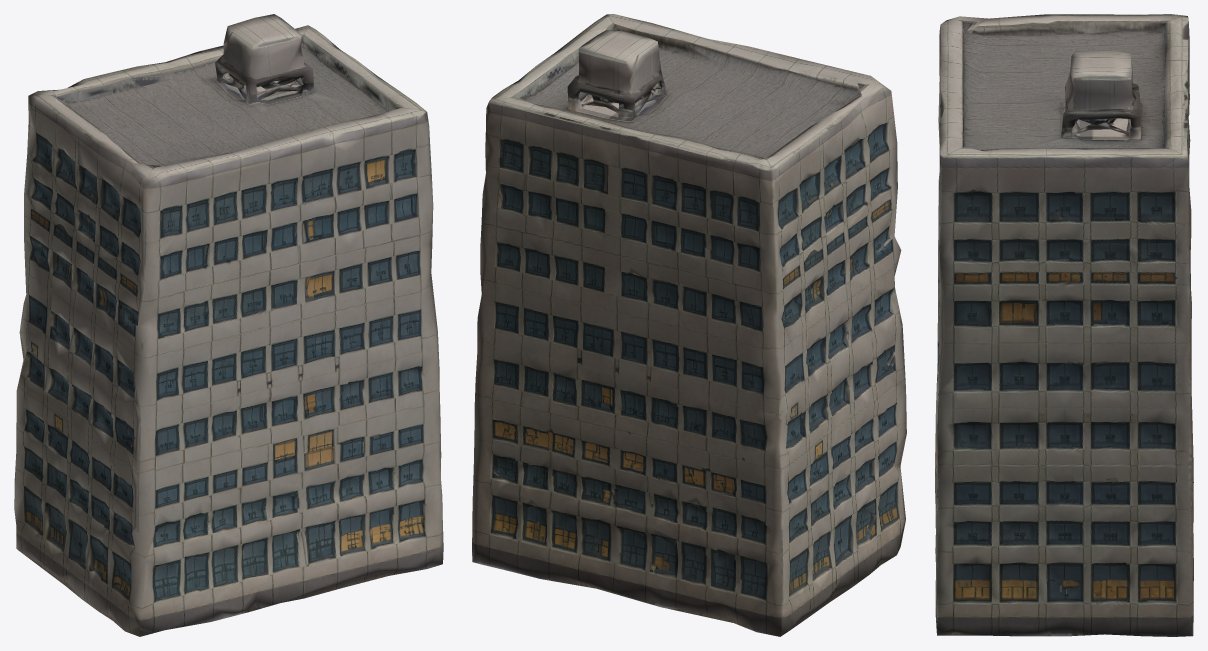
Rendered from KR_Office_02.glb.
3 renders of one model, left to right at view 1: azimuth 30°, elevation 25°; view 2: azimuth 150°, elevation 25°; view 3: azimuth 270°, elevation 25°, orthographic. The views are drawn at different scales.
Visible parts, largest first — view 1: texture_mapping; view 2: texture_mapping; view 3: texture_mapping.
Part boxes in pixels (box(x1,y1,x2,y2)): texture_mapping: box(14, 14, 443, 636); texture_mapping: box(472, 14, 906, 636); texture_mapping: box(935, 14, 1193, 636).
Bounding box in the file's own units: 0.645 × 1.01 × 0.4511.
1 material, 1 textured.
